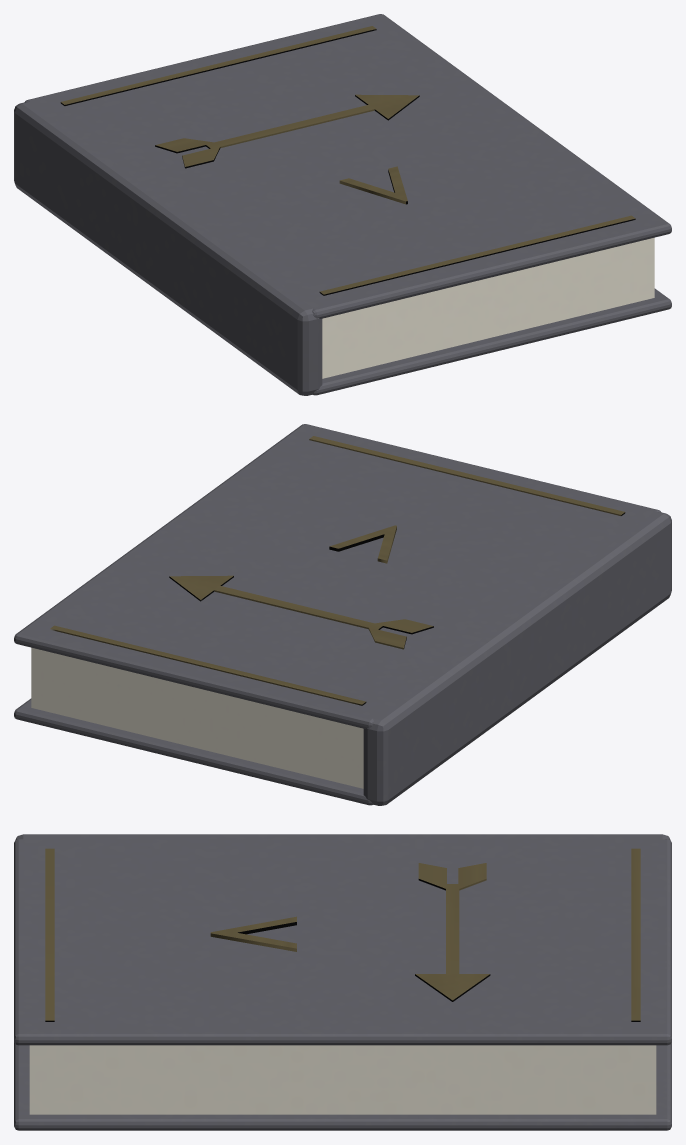
The model's file is FL_BookArchery5.fbx.
3 views of the same model, one above another, from view 1: azimuth 30°, elevation 25°; view 2: azimuth 150°, elevation 25°; view 3: azimuth 270°, elevation 25° (orthographic). The views are drawn at different scales.
Visible parts, largest first — view 1: FL_BookArchery5; view 2: FL_BookArchery5; view 3: FL_BookArchery5.
Boxes of the visible parts, x1=… form: FL_BookArchery5: x1=14, y1=14, x2=671, y2=395; FL_BookArchery5: x1=14, y1=424, x2=671, y2=805; FL_BookArchery5: x1=14, y1=834, x2=671, y2=1130.
Bounding box in the file's own units: 0.0129 × 0.00295 × 0.0175.
